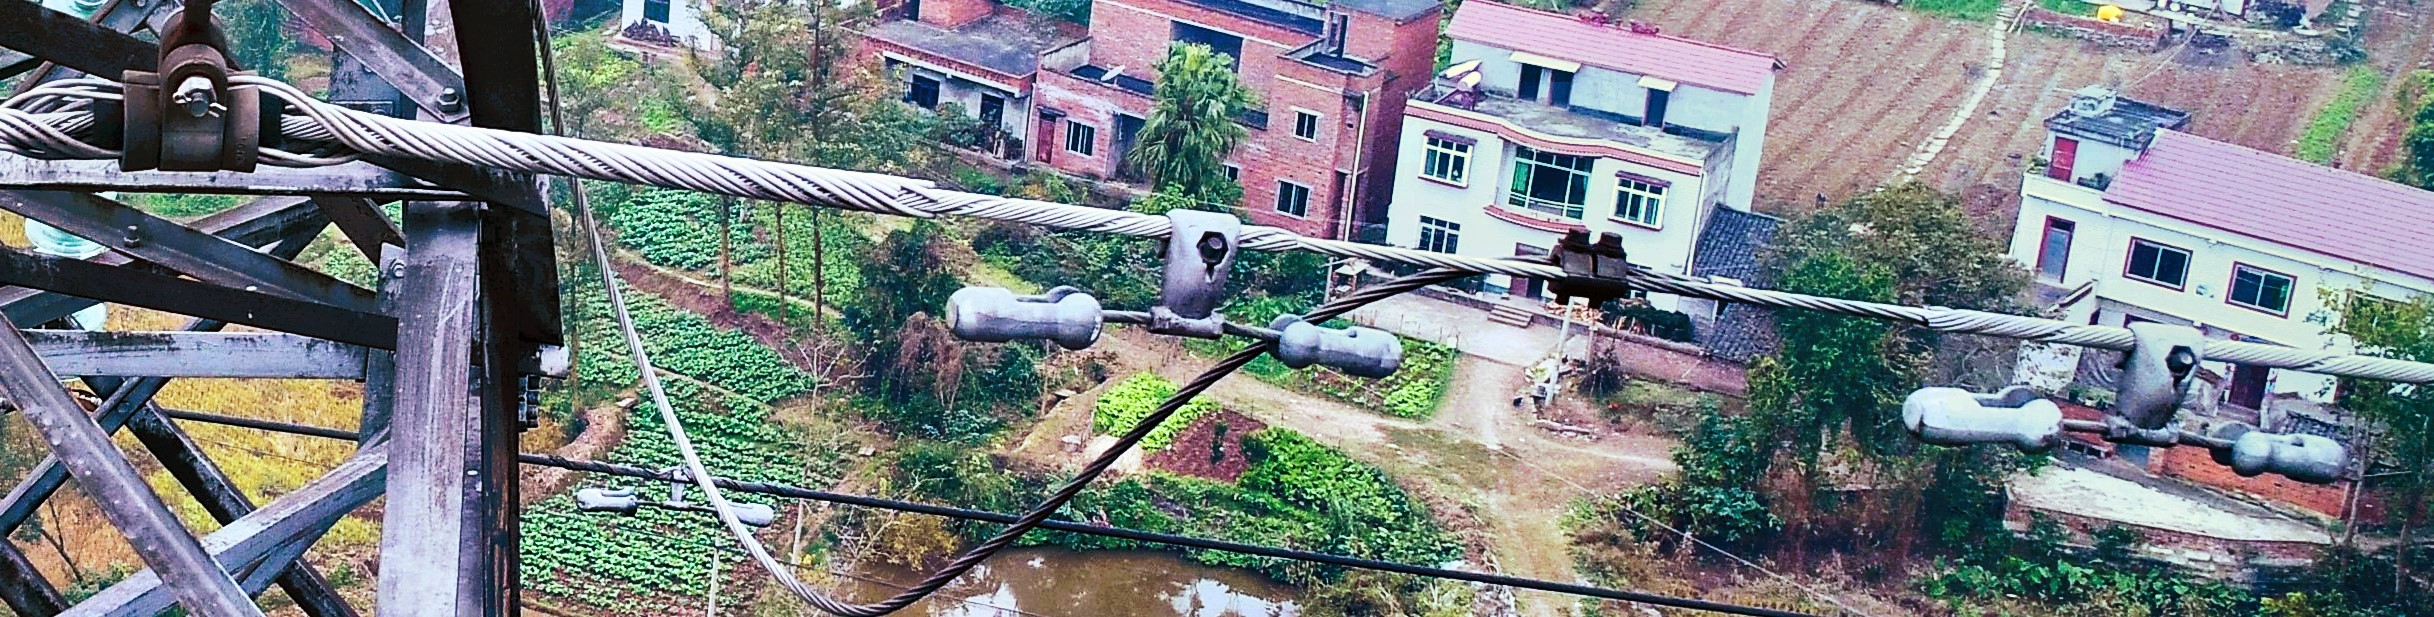Shockproof hammer: (927, 180, 1422, 401), (1898, 291, 2367, 493)
